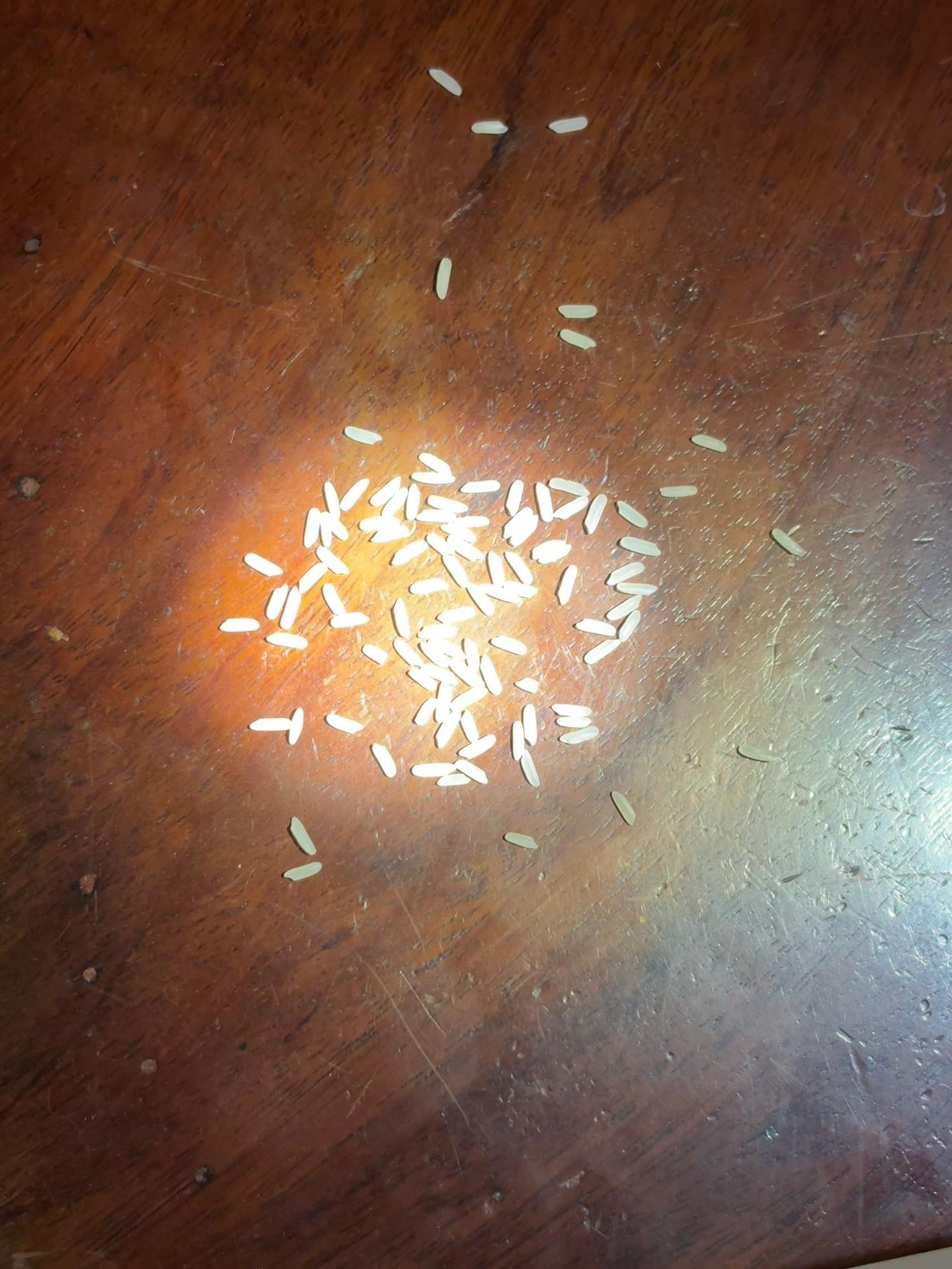Rice-th-y-nh: (465, 581, 496, 617), (449, 658, 485, 689), (435, 710, 462, 749), (289, 816, 316, 855), (428, 67, 463, 97), (479, 654, 504, 696), (606, 594, 643, 622), (442, 514, 479, 542), (370, 476, 402, 508), (505, 551, 535, 585), (419, 452, 454, 481), (432, 681, 456, 723), (426, 636, 466, 661), (584, 638, 621, 665), (339, 479, 370, 511), (393, 637, 425, 668), (316, 546, 349, 576), (298, 562, 328, 595), (503, 507, 533, 540), (447, 536, 485, 562), (772, 528, 806, 557), (441, 554, 470, 588), (506, 720, 530, 761), (451, 685, 487, 712), (412, 759, 456, 781), (508, 515, 539, 546), (418, 663, 458, 687), (280, 587, 302, 630), (392, 539, 427, 566), (244, 553, 283, 577), (611, 790, 637, 826), (460, 734, 496, 760), (301, 507, 323, 549), (549, 475, 589, 498), (455, 758, 489, 785), (606, 562, 644, 586), (483, 582, 521, 606), (585, 493, 607, 534), (553, 495, 589, 520), (381, 487, 409, 519), (266, 630, 308, 651), (557, 565, 579, 605), (533, 540, 571, 563), (420, 641, 451, 669), (616, 501, 648, 528), (265, 584, 289, 620), (620, 536, 661, 557), (372, 743, 397, 777), (427, 494, 468, 514), (560, 725, 599, 746), (486, 551, 508, 588), (491, 634, 528, 656), (519, 750, 541, 787), (548, 115, 588, 135), (411, 469, 455, 487), (535, 483, 555, 522), (575, 618, 616, 637), (360, 514, 401, 533), (326, 713, 363, 734), (321, 584, 346, 615), (503, 578, 538, 600), (393, 598, 412, 638), (416, 506, 456, 525), (521, 704, 540, 744), (373, 524, 410, 544), (439, 605, 476, 625), (551, 701, 592, 719), (435, 258, 453, 299), (618, 610, 641, 642), (470, 118, 508, 137), (426, 533, 456, 557), (505, 480, 525, 516), (460, 710, 481, 744), (285, 862, 322, 881), (344, 426, 381, 445), (288, 708, 307, 745), (560, 329, 595, 349), (414, 698, 438, 727), (446, 515, 489, 531), (408, 668, 437, 691), (326, 512, 349, 541), (404, 483, 422, 520), (324, 481, 341, 520), (330, 611, 369, 628), (616, 581, 657, 597), (219, 617, 260, 633), (556, 713, 592, 731), (420, 622, 458, 639), (504, 831, 538, 850), (460, 479, 500, 495), (463, 638, 481, 673), (411, 578, 448, 595), (250, 717, 291, 732), (692, 434, 726, 452), (558, 304, 596, 319), (449, 525, 477, 545), (363, 644, 389, 665), (437, 772, 470, 788), (319, 513, 334, 548), (659, 485, 697, 497), (515, 677, 540, 694)
